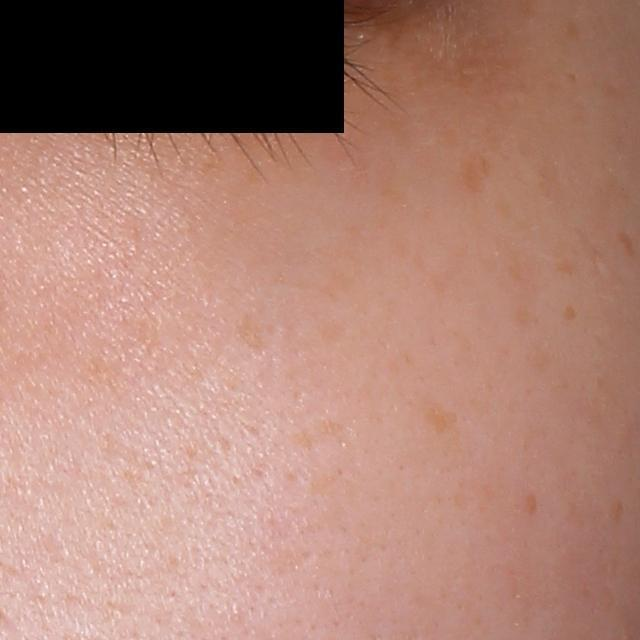melasma: (371, 152, 411, 209), (456, 146, 490, 194), (231, 311, 265, 354), (421, 403, 459, 433), (612, 228, 638, 260), (550, 254, 581, 277), (513, 304, 534, 327), (560, 305, 579, 321)
